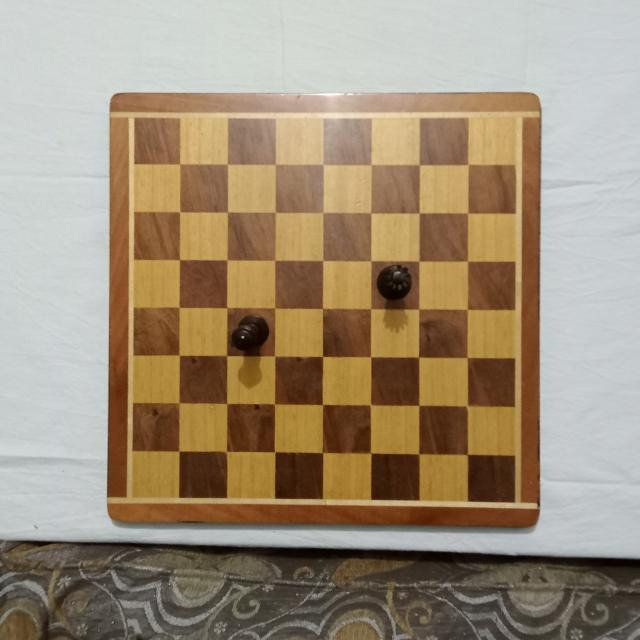black-king: (230, 316, 270, 350)
black-queen: (377, 263, 414, 301)
